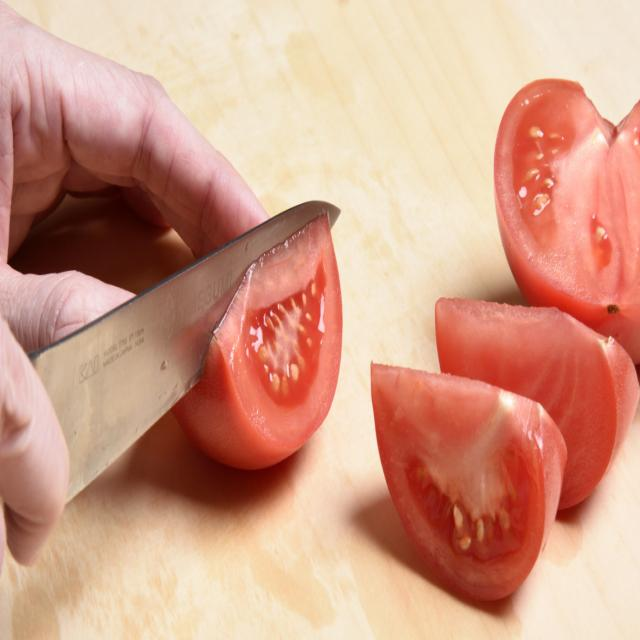Tomato: (356, 353, 572, 620), (431, 282, 640, 524), (490, 63, 640, 374), (195, 200, 345, 481)
